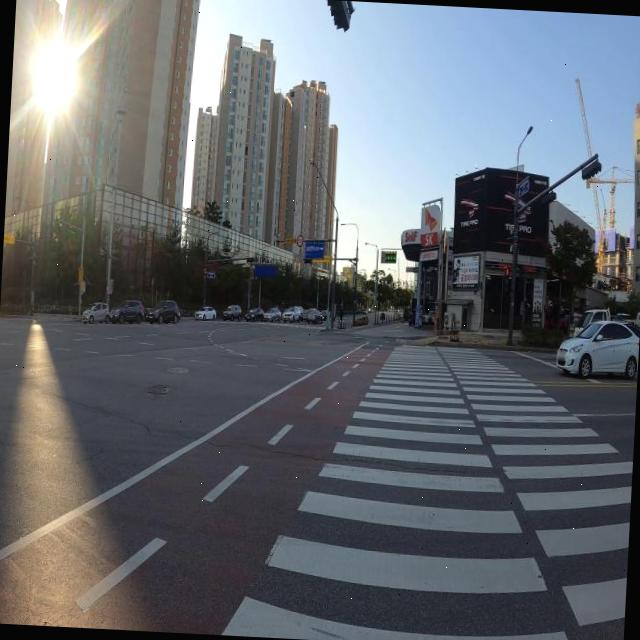crosswalk: (222, 343, 633, 640), (188, 320, 332, 329)
